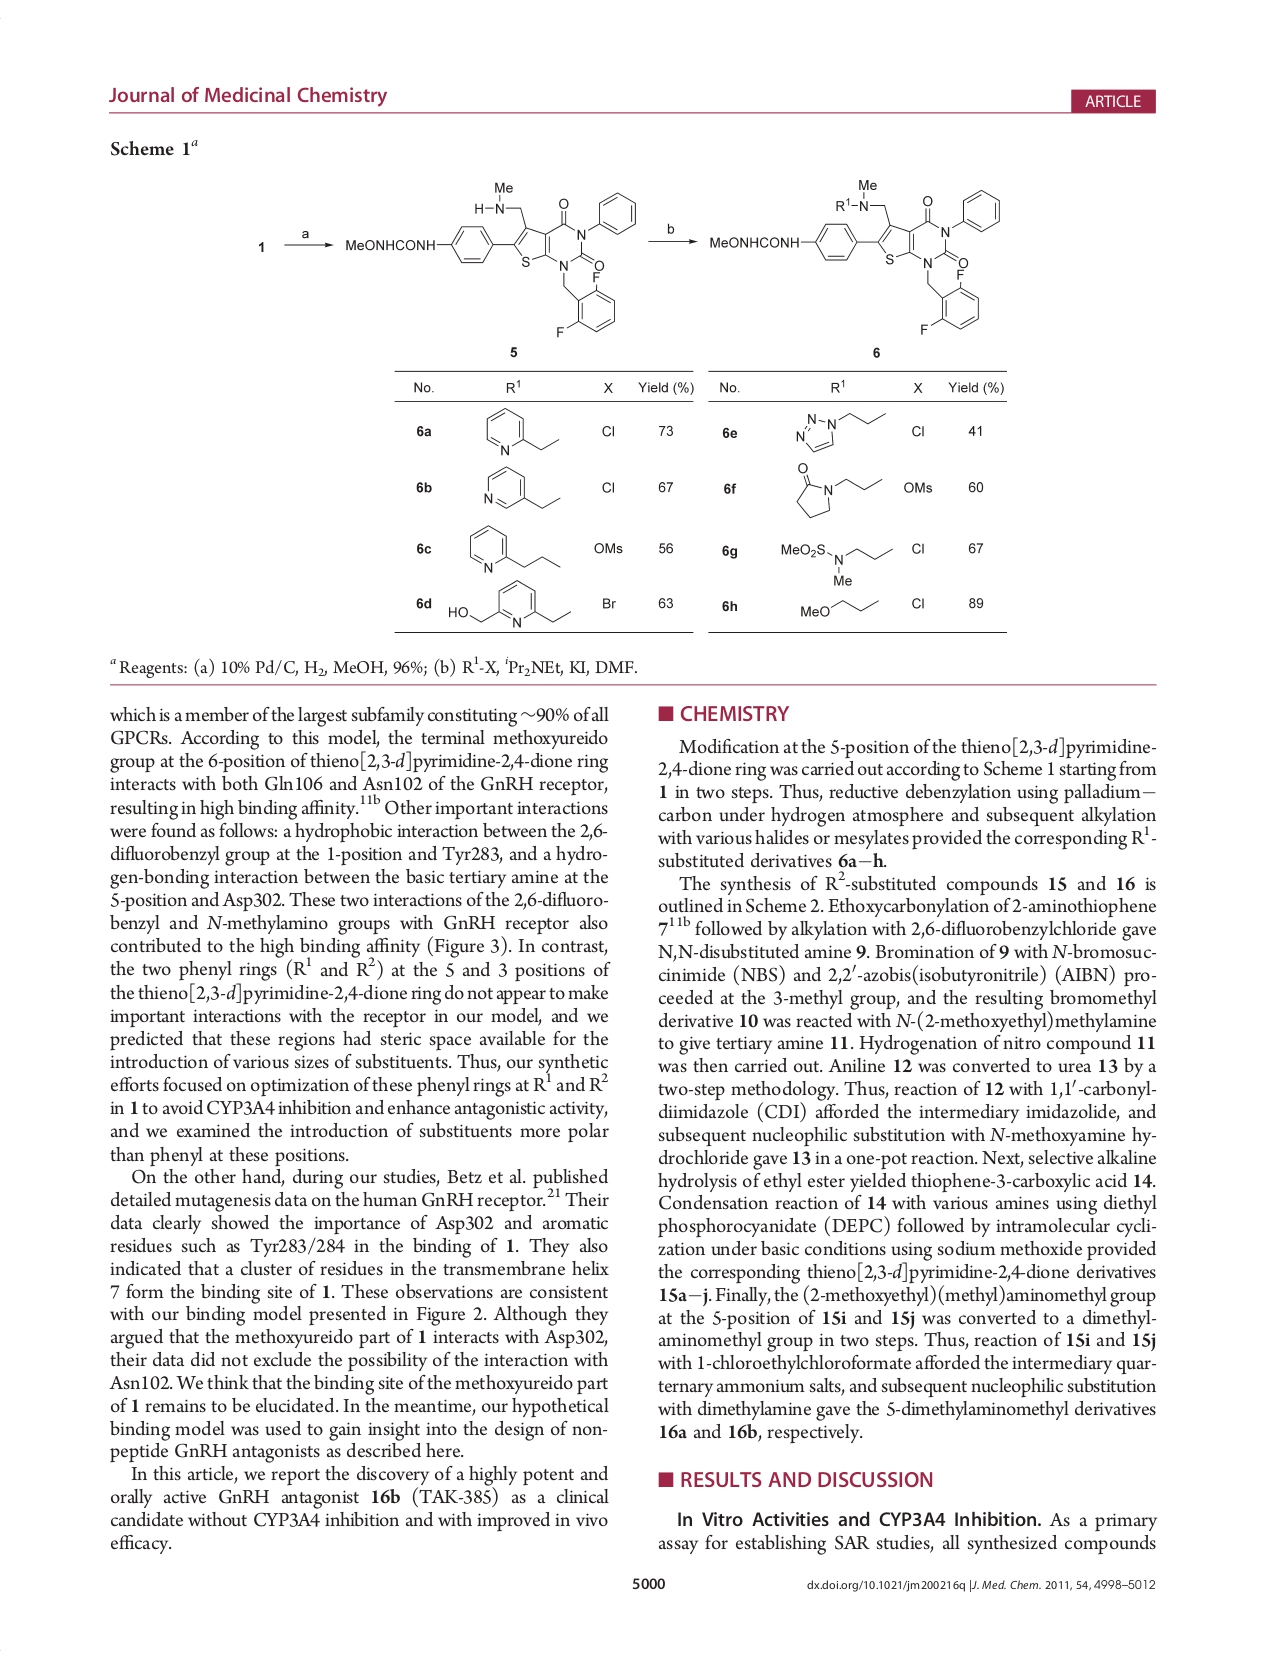exist_molecular: (706, 176, 1004, 338), (343, 180, 641, 340), (445, 578, 574, 626), (781, 539, 896, 590), (793, 459, 884, 523), (465, 519, 561, 576), (790, 407, 887, 453), (480, 463, 563, 515), (481, 404, 559, 457), (799, 596, 882, 621)
